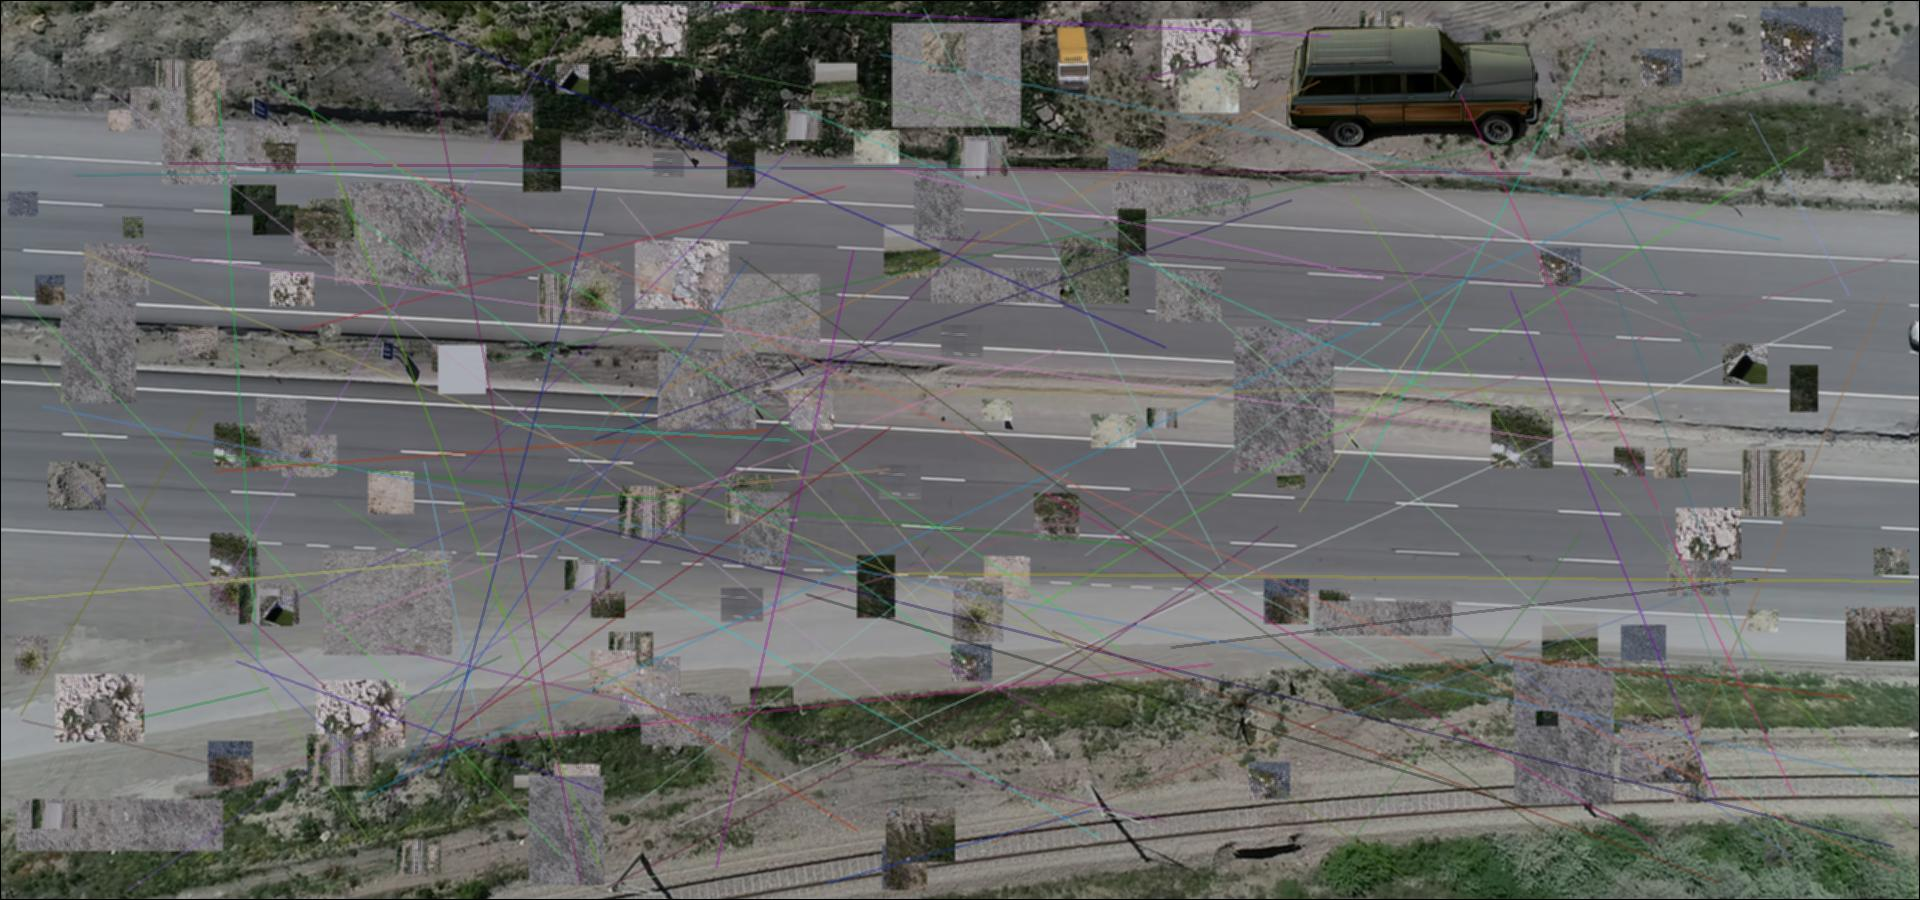arac: (1287, 27, 1542, 147), (1056, 24, 1095, 94)
